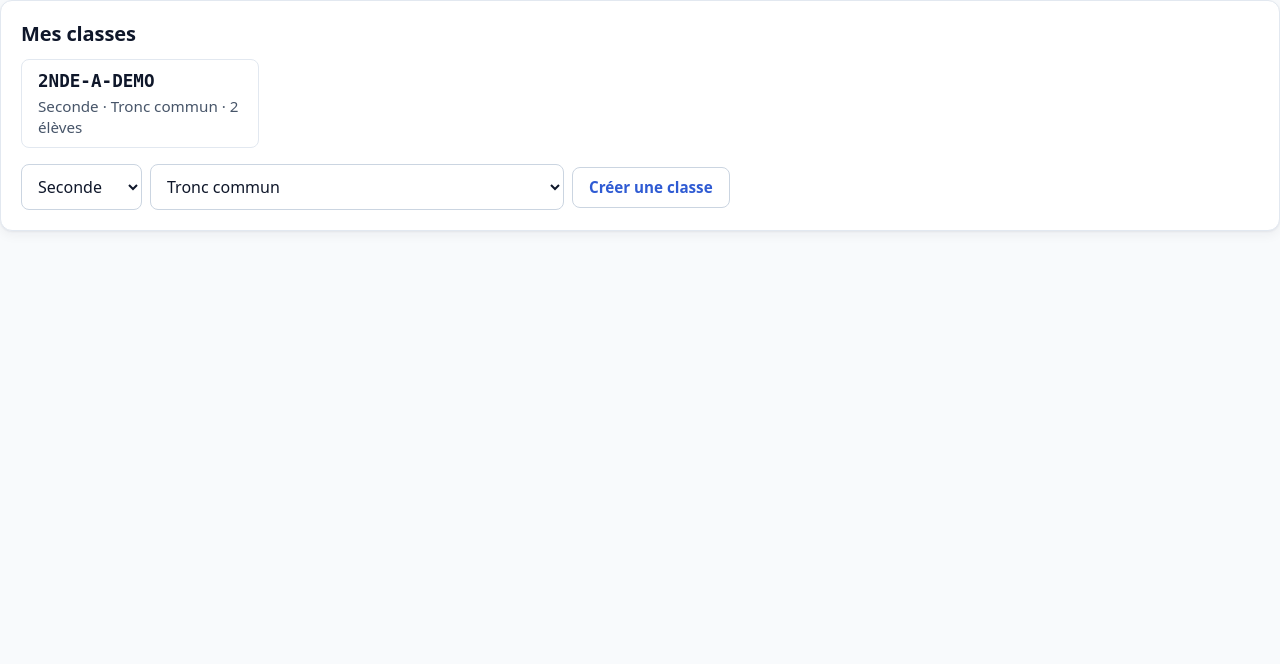
Test: codes personnels des élèves › nouveau code après confirmation, et codes manquants pour les élèves d'avant
Click the button "2NDE-A-DEMO Seconde · Tronc commun · 2 élèves": (140, 104) left=21, top=59, right=259, bottom=148
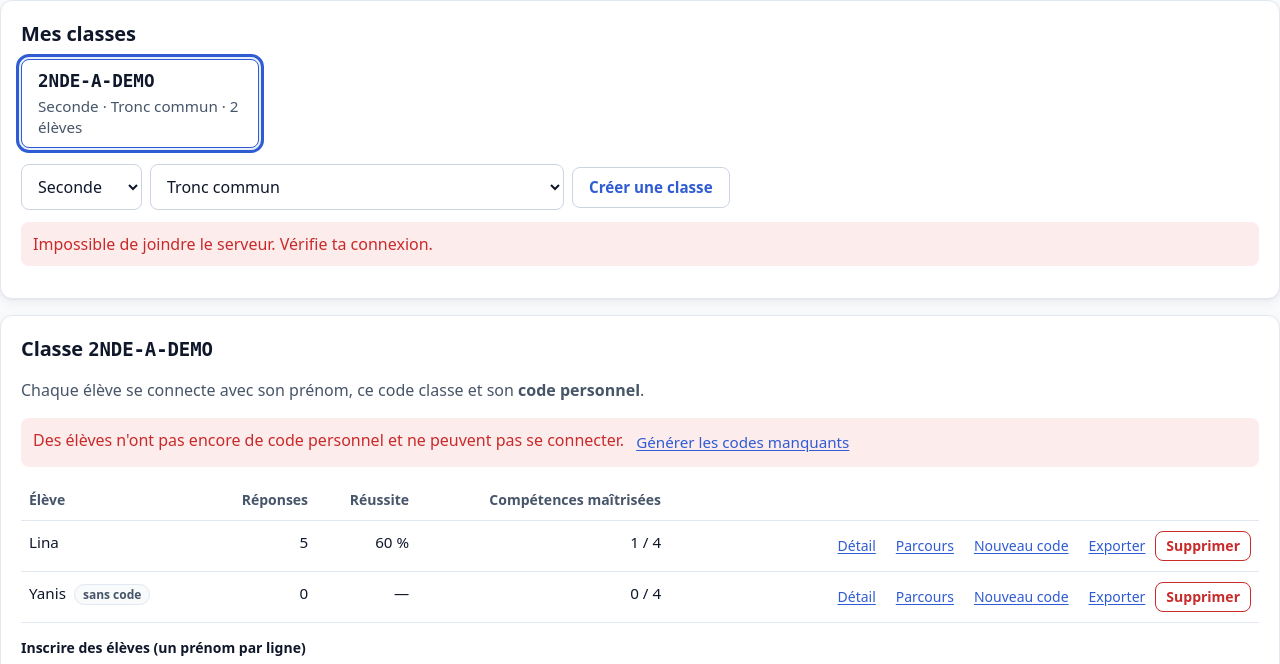
Result: the text "sans code" is shown at left=74, top=584, right=150, bottom=605
Click the button with aria-label "Nouveau code pour Lina": (1021, 546) left=964, top=532, right=1078, bottom=560
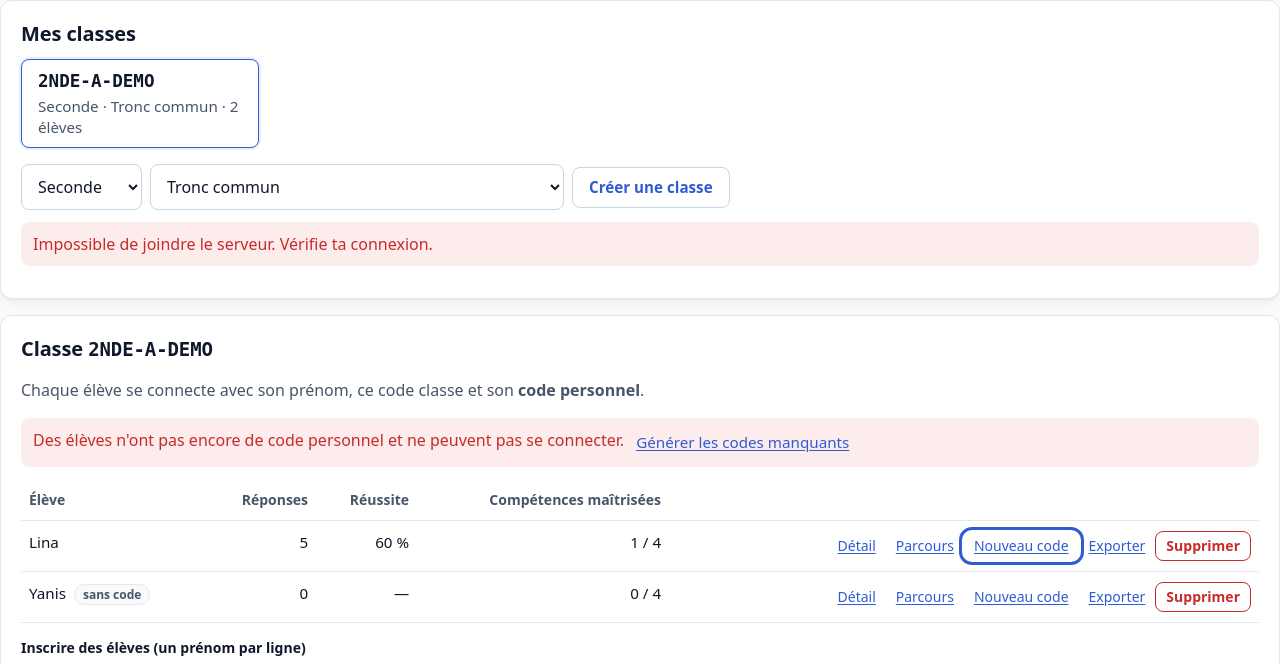
Click the button with aria-label "Nouveau code pour Lina": (1021, 546) left=964, top=532, right=1078, bottom=560
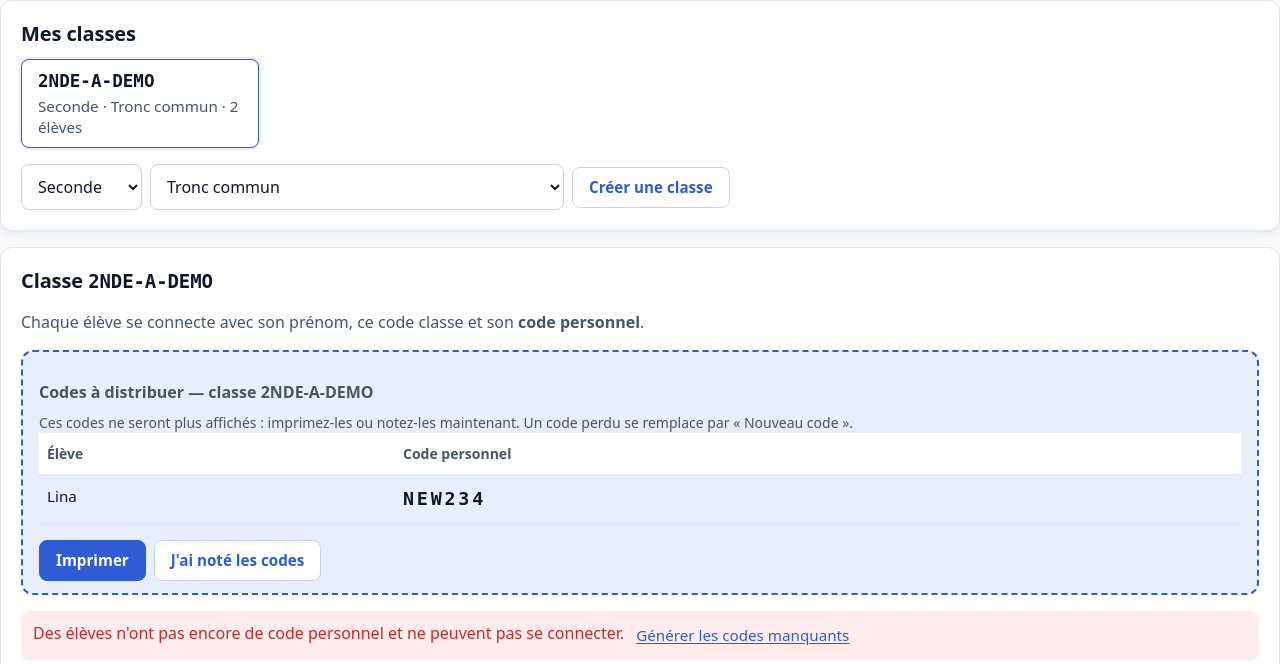
Result: the text "NEW234" is shown at left=403, top=488, right=486, bottom=509
Click the button "Générer les codes manquants": (743, 636) left=632, top=621, right=853, bottom=650
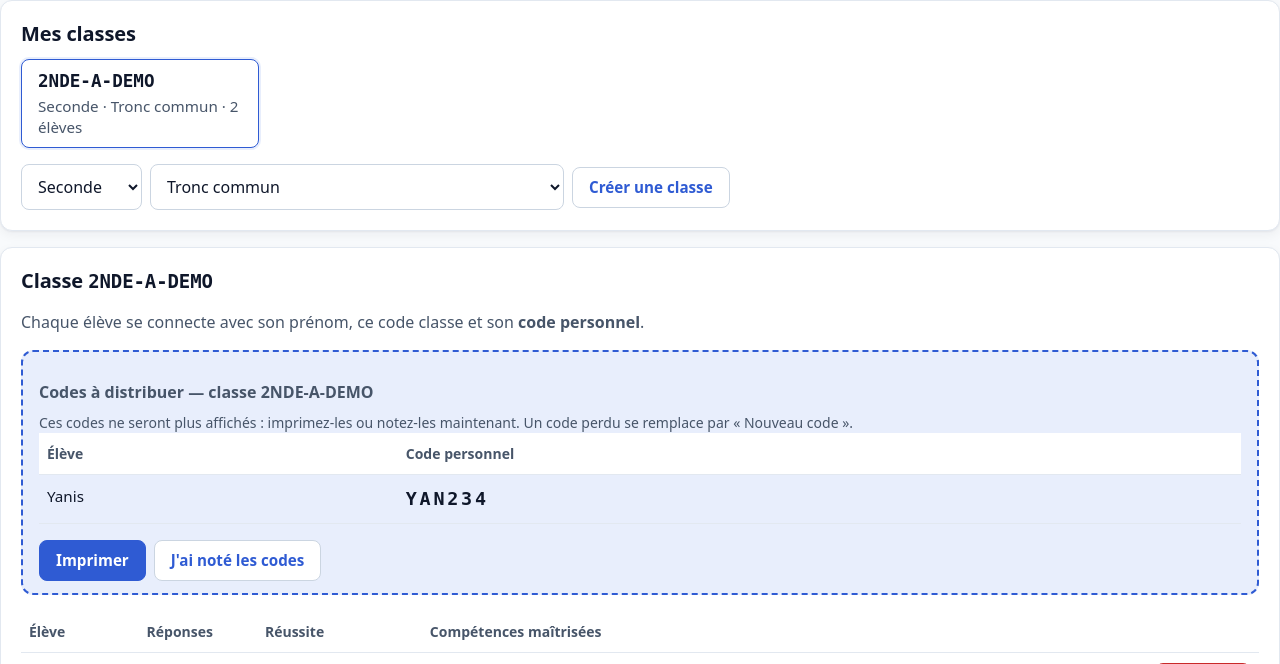
Result: the text "YAN234" is shown at left=406, top=488, right=489, bottom=509
